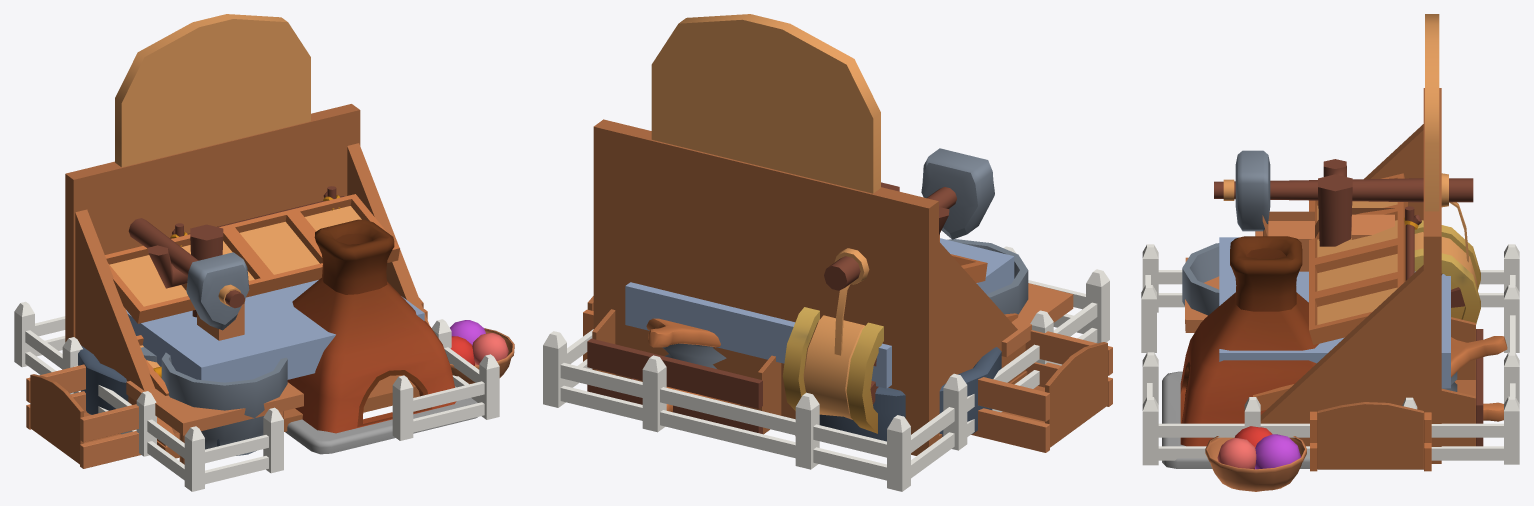
The model's file is fact farmland3d.fbx.
The picture shows the model from 3 angles, left to right: view 1: azimuth 30°, elevation 25°; view 2: azimuth 150°, elevation 25°; view 3: azimuth 270°, elevation 25°; orthographic projection. The views are drawn at different scales.
Parts seen in each view (by area): view 1: kedehang, bread1, hangrao, jam, thu_ngan, cloth, juice; view 2: kedehang, jam, hangrao, cloth, thu_ngan, bread1, juice; view 3: kedehang, bread1, jam, hangrao, juice, thu_ngan, cloth.
Boxes of the visible parts, x1,y1,x2,y2 form: kedehang: [65, 14, 429, 458]; bread1: [126, 219, 477, 464]; hangrao: [14, 301, 499, 491]; jam: [128, 218, 287, 455]; thu_ngan: [126, 280, 424, 382]; cloth: [26, 186, 514, 468]; juice: [78, 298, 427, 446]; kedehang: [593, 14, 1027, 455]; jam: [587, 148, 1028, 434]; hangrao: [543, 246, 1109, 491]; cloth: [631, 330, 1112, 452]; thu_ngan: [625, 234, 1014, 388]; bread1: [635, 283, 1073, 411]; juice: [583, 296, 1001, 441]; kedehang: [1253, 14, 1441, 463]; bread1: [1162, 236, 1507, 468]; jam: [1182, 150, 1483, 446]; hangrao: [1141, 244, 1519, 465]; juice: [1310, 402, 1431, 471]; thu_ngan: [1219, 208, 1450, 388]; cloth: [1205, 206, 1421, 491].
Size of the model in its own units: 4165 by 3167 by 3022.
